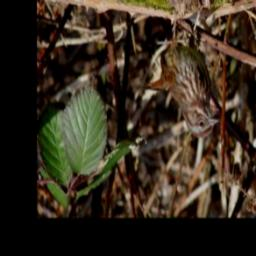Sparrow: (141, 0, 219, 139)
